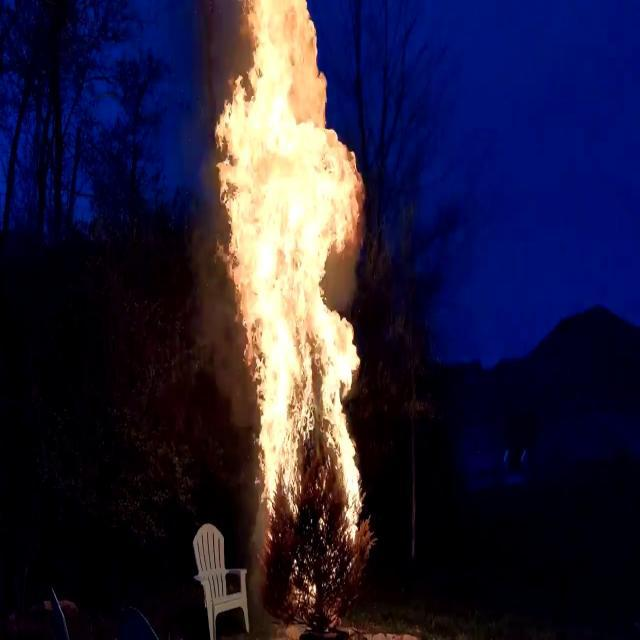Fire: (196, 0, 374, 541)
